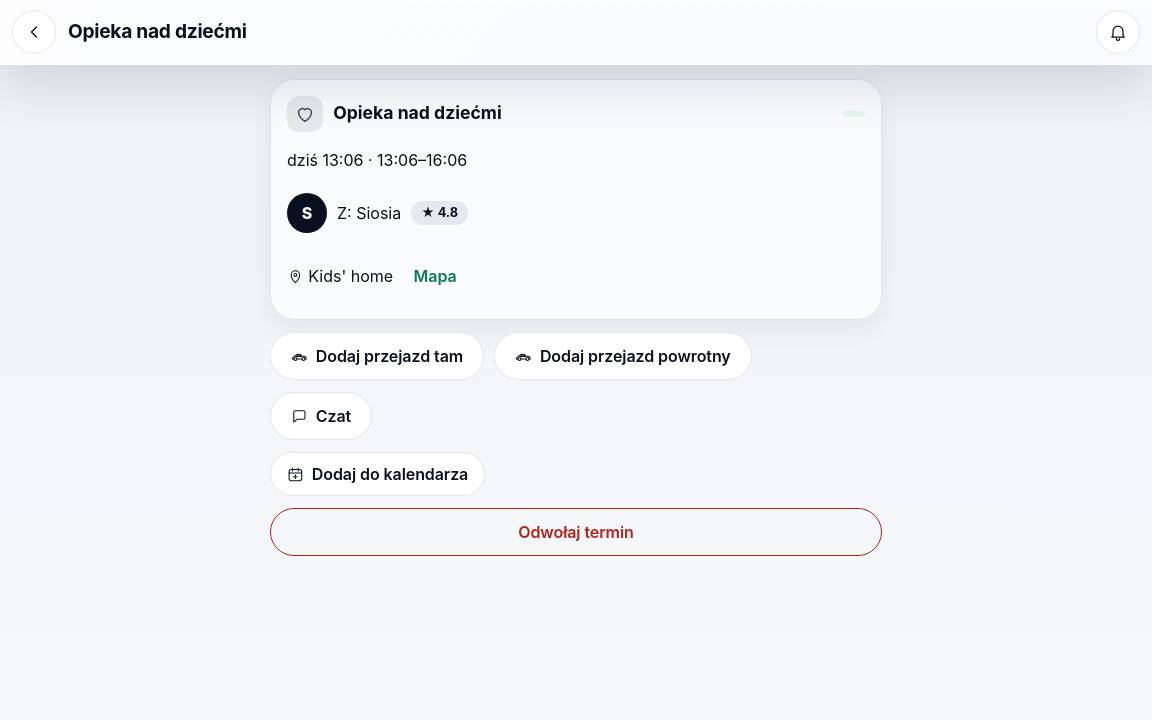
Test: C3 Appointment and C4 accept sheet (FR-101, FR-109–112, FR-117) › refuses a ride there that would be under 30 min ahead and points to Ride now, in Polish
This screenshot has width=1152, height=720.
Click the button with test id "add-ride-there".
click(377, 356)  # box top-left (270, 332), bottom-right (484, 380)
(page scrolled)
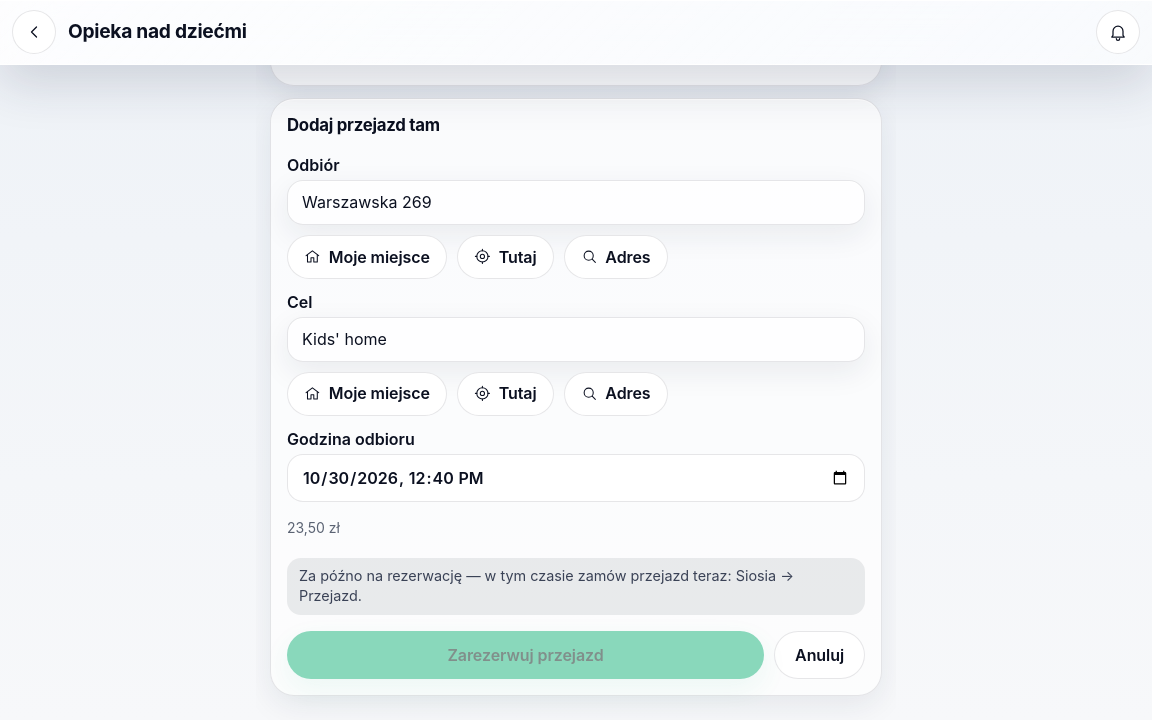
Now the text with test id "ride-there-too-soon" shows "Siosia → Przejazd", box top-left (299, 567), bottom-right (794, 604)
Now the button with test id "book-ride-there" is disabled, box top-left (287, 631), bottom-right (764, 679)
